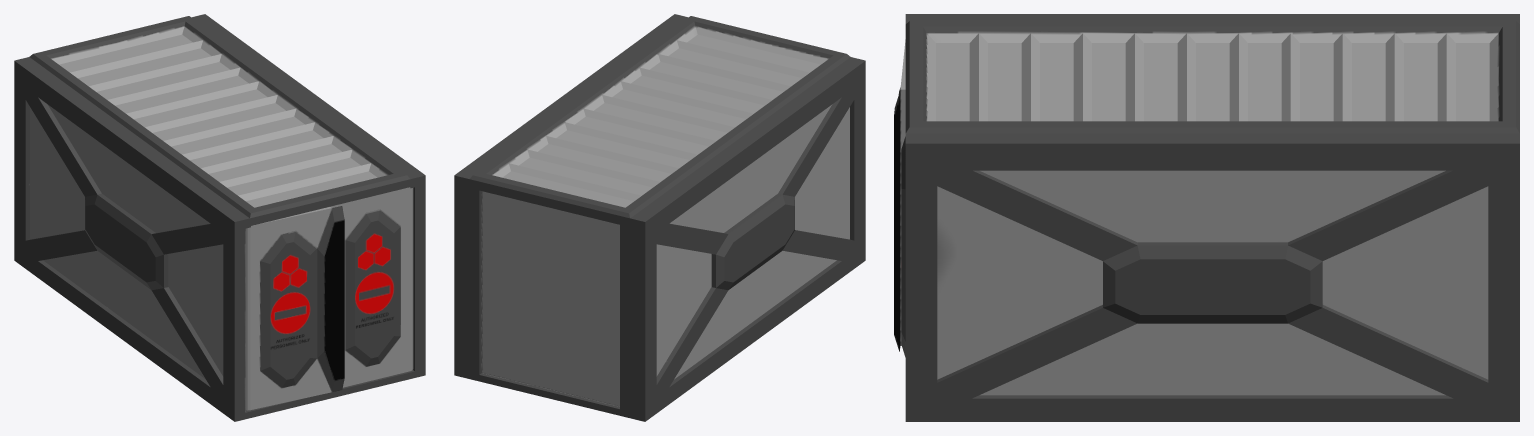
Rendered from special cargo.fbx.
3 renders of one model, left to right at view 1: azimuth 30°, elevation 25°; view 2: azimuth 150°, elevation 25°; view 3: azimuth 270°, elevation 25°, orthographic. The views are drawn at different scales.
Parts seen in each view (by area): view 1: Crate, Door+slot, Door; view 2: Crate; view 3: Crate, Door+slot, Door.
Boxes of the visible parts, box(x1,y1,x2,y2) form: Crate: box(14, 14, 425, 421); Door+slot: box(245, 206, 344, 410); Door: box(331, 187, 413, 387); Crate: box(454, 14, 865, 421); Crate: box(905, 14, 1519, 421); Door+slot: box(894, 39, 905, 351); Door: box(901, 136, 905, 357).
Bounding box in the file's own units: 10.41 × 10.17 × 20.38.
